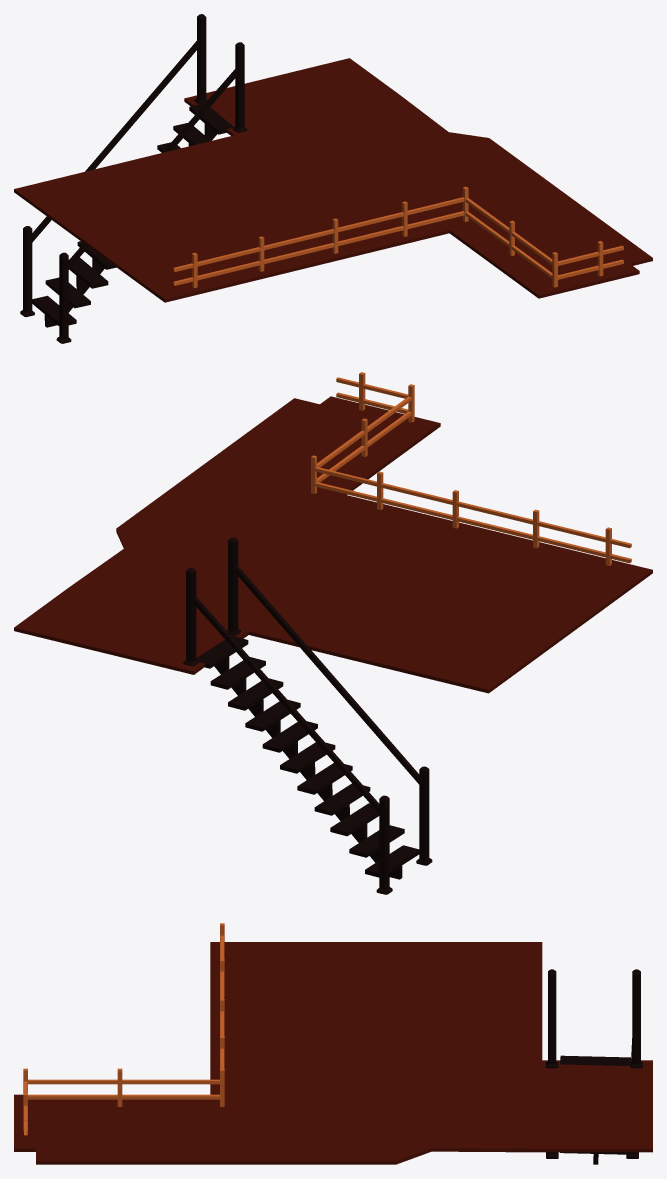
Rendered from Stairs_2ndFloor.fbx.
3 renders of one model, top to bottom at view 1: azimuth 30°, elevation 25°; view 2: azimuth 150°, elevation 25°; view 3: azimuth 270°, elevation 25°, orthographic. The views are drawn at different scales.
Visible parts, largest first — view 1: 2ndfloor; view 2: 2ndfloor; view 3: 2ndfloor.
Part boxes in pixels (box(x1,y1,x2,y2)): 2ndfloor: box(14, 14, 652, 343); 2ndfloor: box(14, 372, 652, 894); 2ndfloor: box(14, 923, 652, 1164).
Bounding box in the file's own units: 230 × 138 × 283.
